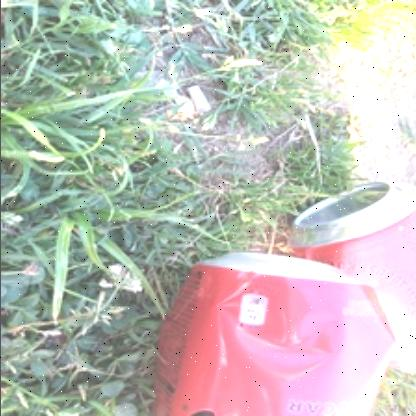Can: (154, 252, 396, 416), (288, 182, 416, 366)
